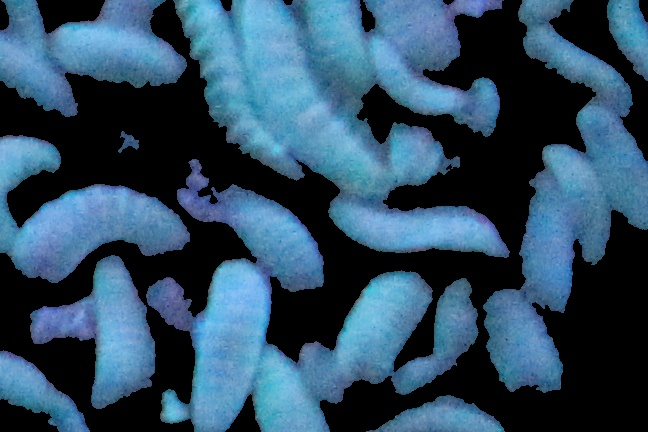larvae: (241, 1, 380, 186), (174, 1, 285, 188), (188, 259, 270, 432), (14, 188, 191, 258), (474, 279, 564, 412), (328, 274, 435, 380), (517, 23, 633, 118), (219, 190, 326, 288), (330, 202, 506, 260), (49, 12, 181, 87), (578, 104, 648, 240), (89, 256, 152, 403), (368, 32, 471, 113), (522, 170, 578, 318), (295, 1, 377, 98), (550, 138, 610, 261), (252, 348, 334, 432), (371, 1, 462, 76), (1, 27, 78, 115), (1, 137, 59, 244), (360, 401, 513, 432)
